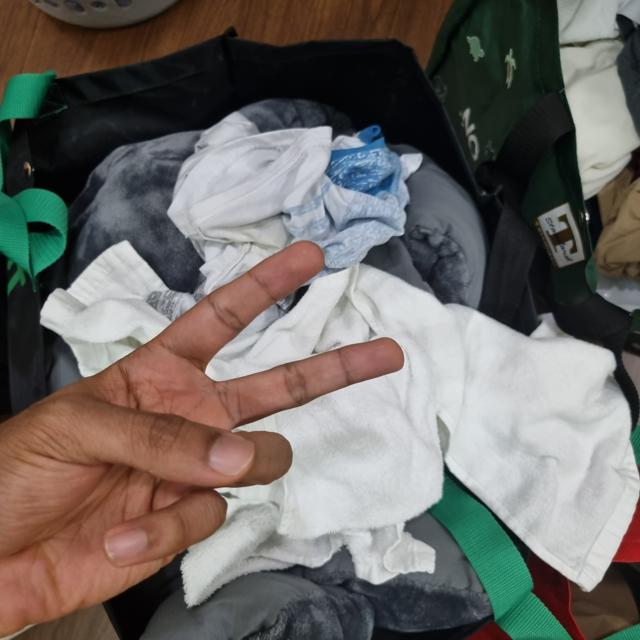Scissors: (0, 243, 400, 639)
